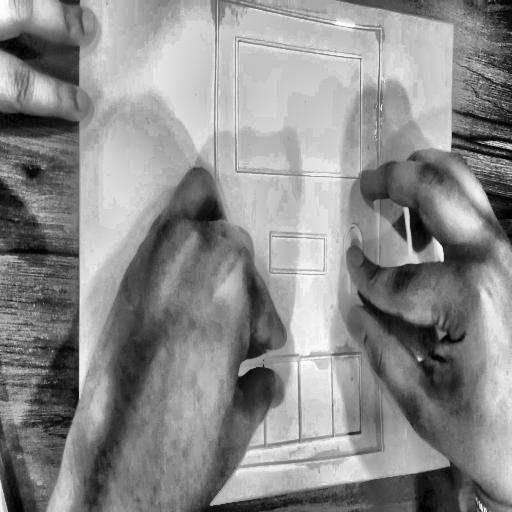bottom_right: (446, 458, 454, 473)
door: (209, 0, 388, 482)
top_right: (450, 20, 456, 32)
